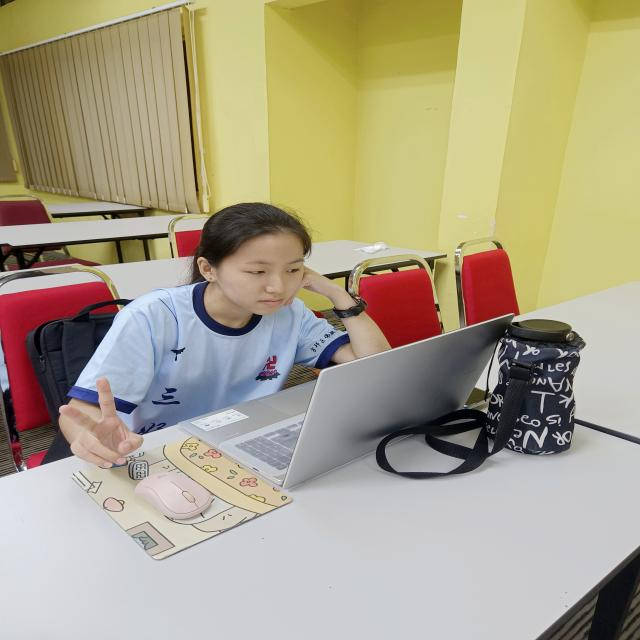person_without_labcoat: (60, 203, 390, 468)
